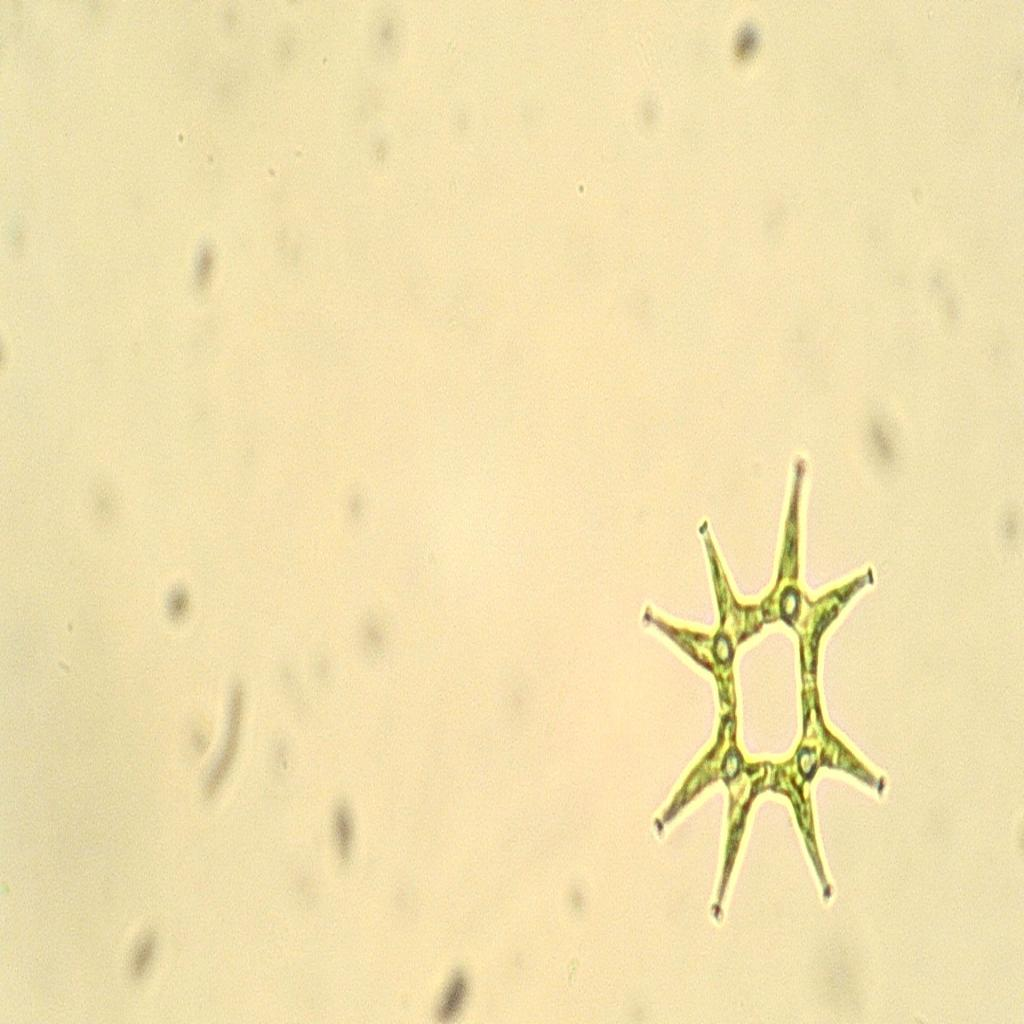Pediastrum_CO: (628, 426, 892, 958)
